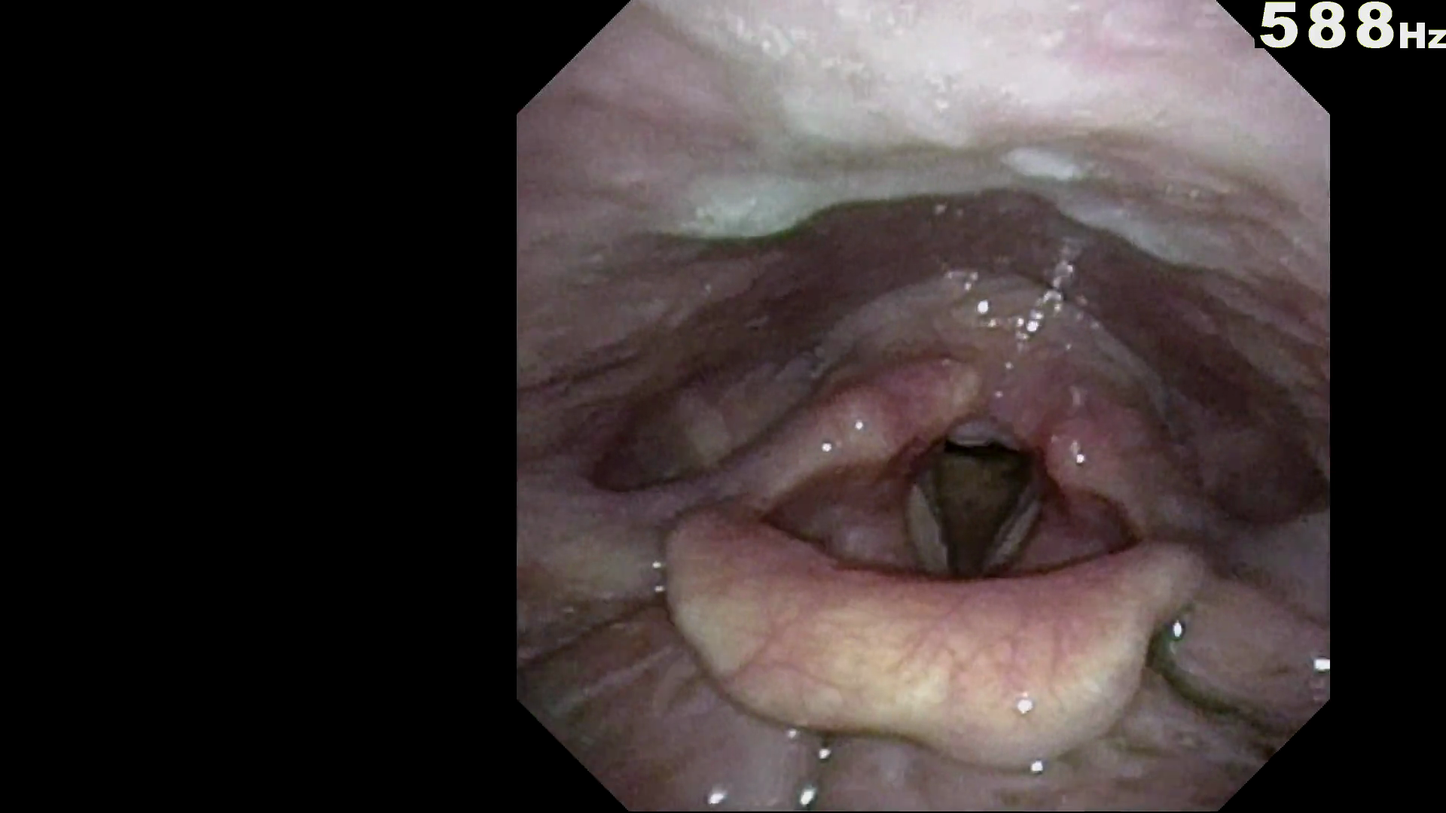epiglottis: (641, 532, 1184, 723)
trachea: (899, 431, 1023, 584)
